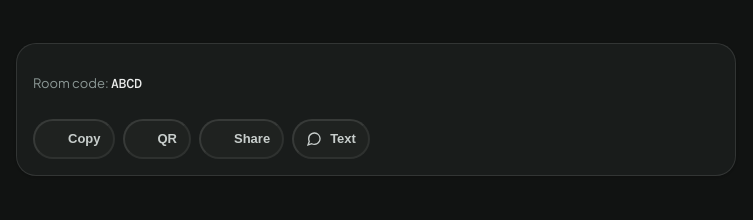
Test: RoomShareToolbar › copies the invite link when Copy is clicked
Click the button "Copy" at (74, 138), box [33,118,114,158]
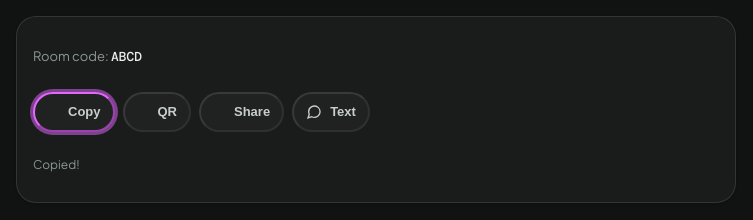
Expected: the text "Copied!" is shown, [33,156,80,172]
